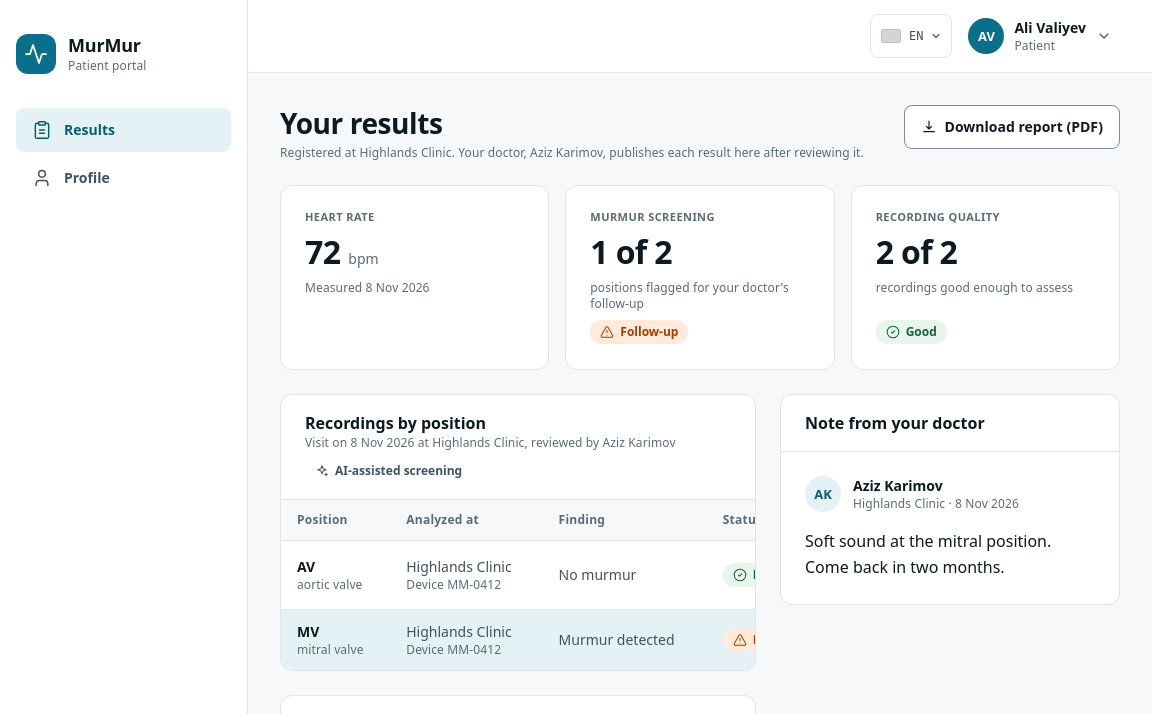
Test: profile: clinic data is shown, not editable; the tab bar leads there
The image size is (1152, 714).
Check: the heading "Your results" is shown, box 280,104 -> 442,142
Click the link "Profile". click: [71, 178]
box: 32,168 -> 110,188
(page scrolled)
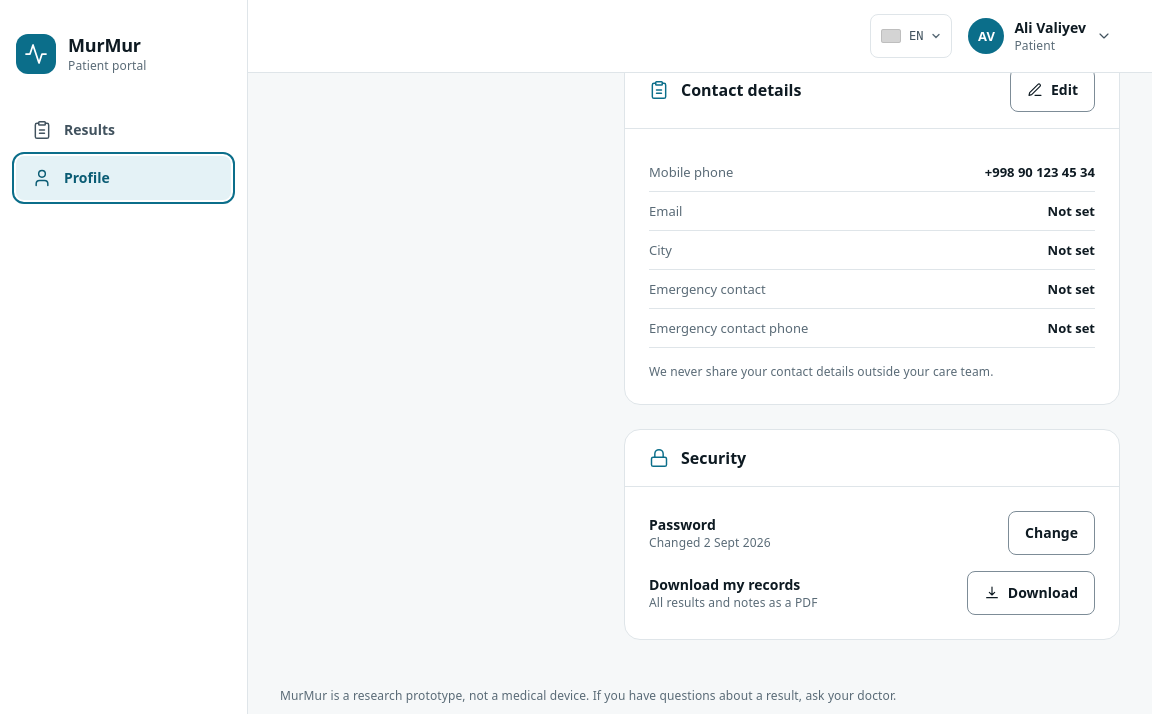
Check: the text "Ali Valiyev" is shown, box 1014,18 -> 1086,38
Check: the text "Changed 2 Sept 2026" is shown, box 649,535 -> 771,551
